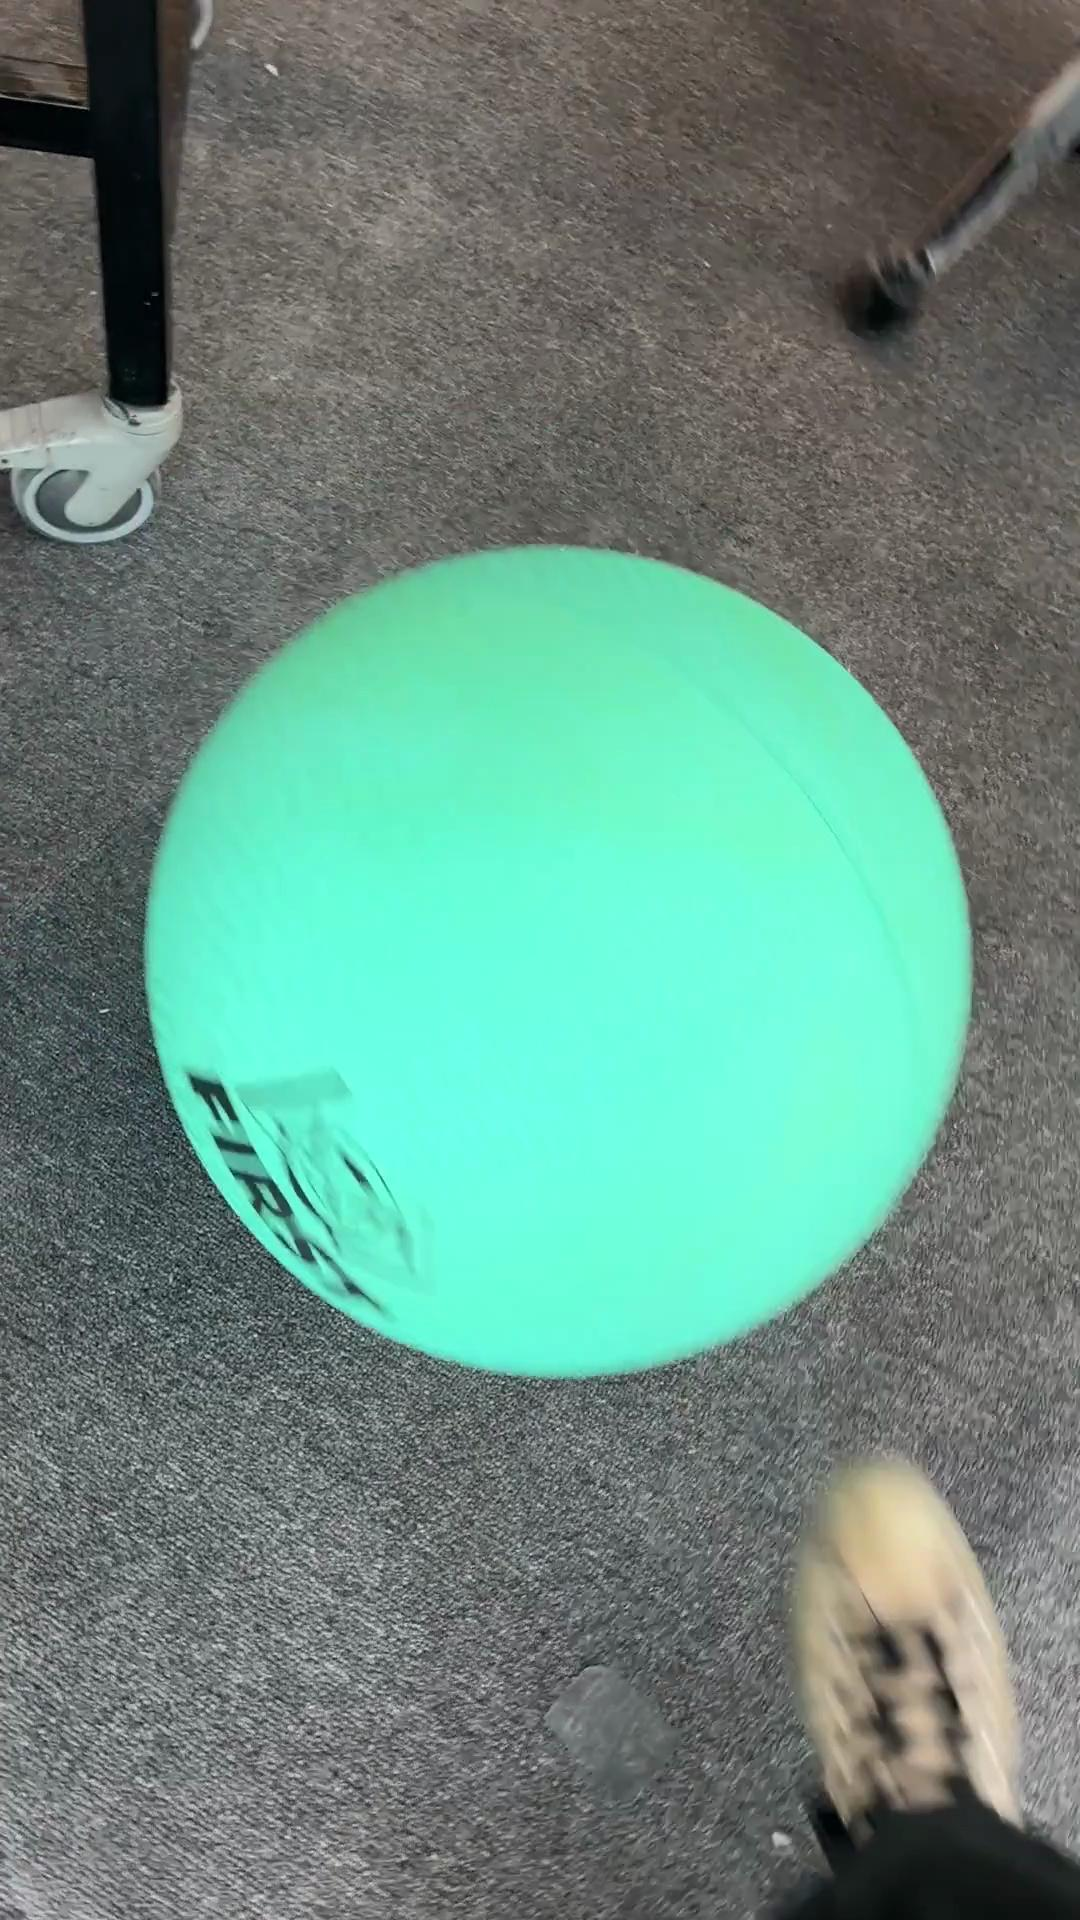ALGAE: (140, 540, 976, 1381)
